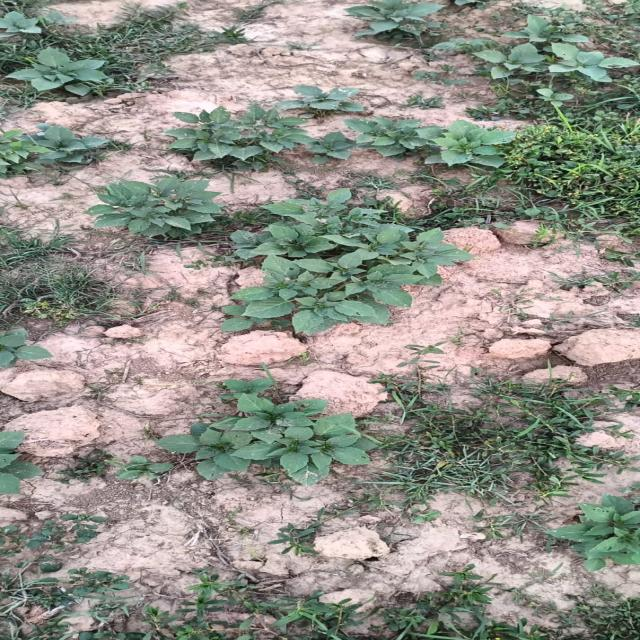plant: (220, 189, 470, 335), (162, 105, 513, 173), (86, 170, 224, 238)
